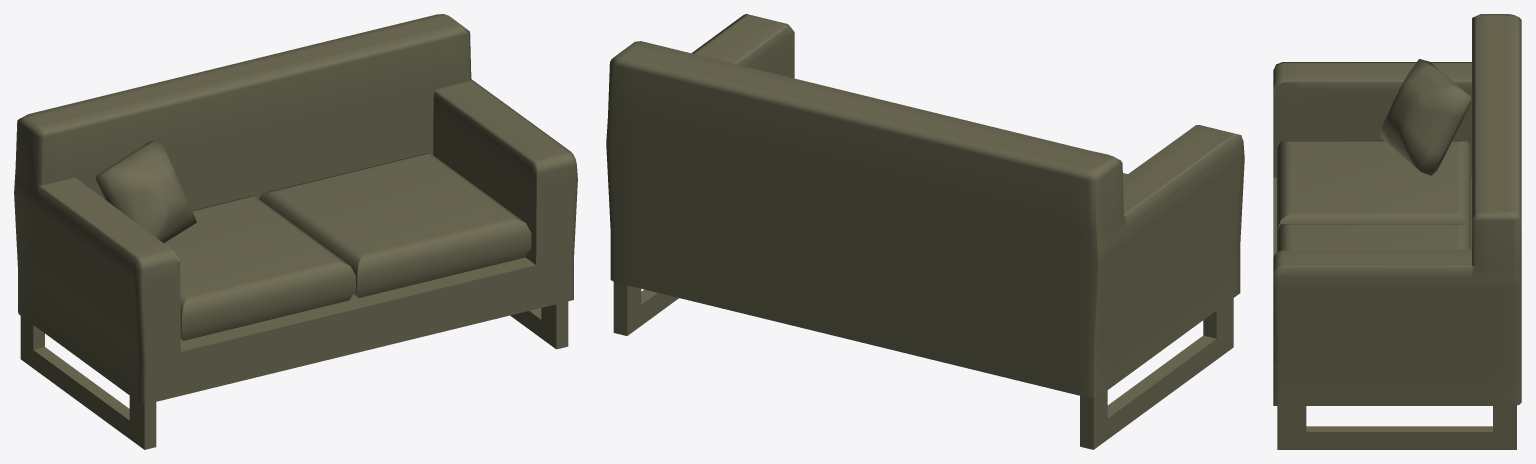
Rendered from couch.fbx.
The picture shows the model from 3 angles, left to right: view 1: azimuth 30°, elevation 25°; view 2: azimuth 150°, elevation 25°; view 3: azimuth 270°, elevation 25°; orthographic projection. The views are drawn at different scales.
Parts seen in each view (by area): view 1: Couch; view 2: Couch; view 3: Couch.
Part boxes in pixels (bbox=[...]): Couch: bbox=[14, 14, 577, 449]; Couch: bbox=[606, 14, 1244, 449]; Couch: bbox=[1273, 14, 1521, 449].
Bounding box in the file's own units: 162 × 85.96 × 82.16.
